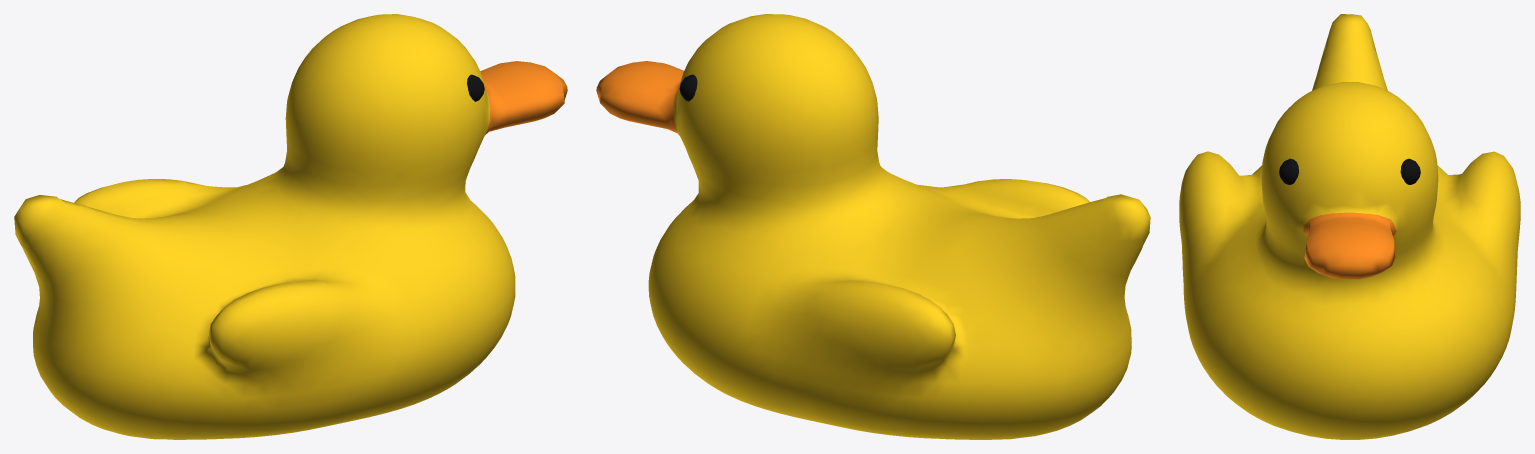
The model's file is duck_adult.glb.
The picture shows the model from 3 angles, left to right: view 1: azimuth 30°, elevation 25°; view 2: azimuth 150°, elevation 25°; view 3: azimuth 270°, elevation 25°; orthographic projection. The views are drawn at different scales.
Visible parts, largest first — view 1: body; view 2: body; view 3: body, eye.
Part boxes in pixels (left/top/right/bottom): body: left=14, top=14, right=567, bottom=439; body: left=596, top=14, right=1150, bottom=439; body: left=1179, top=14, right=1520, bottom=439; eye: left=1279, top=158, right=1420, bottom=184.
Bounding box in the file's own units: 2.17 × 1.36 × 1.23.
